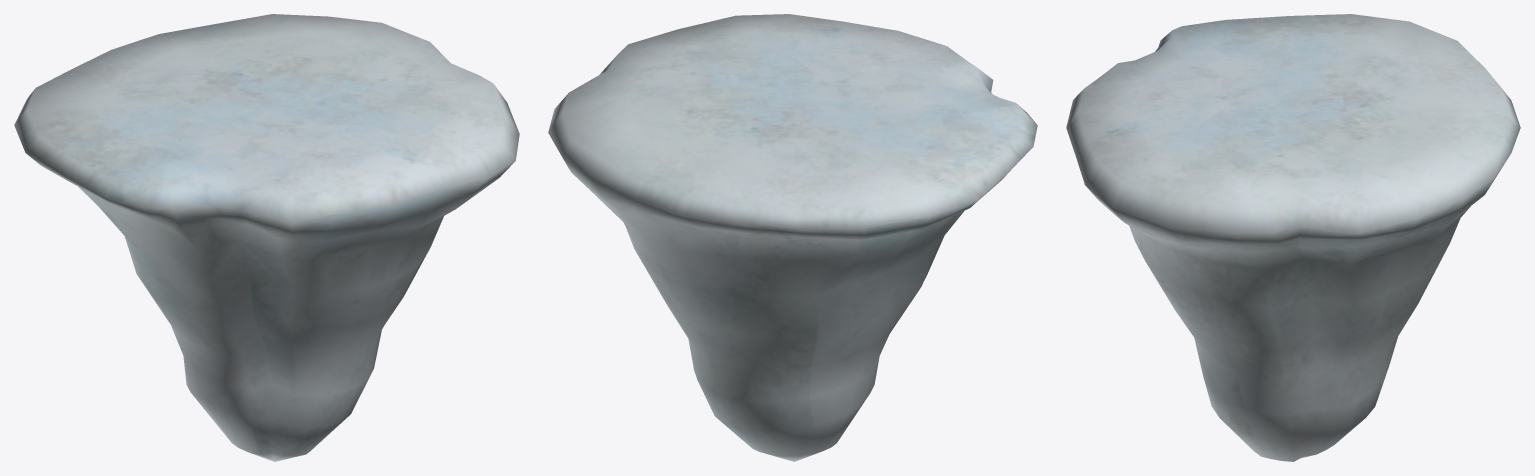
File: P_RockDesert_CliffHalf05.obj
3 renders of one model, left to right at view 1: azimuth 30°, elevation 25°; view 2: azimuth 150°, elevation 25°; view 3: azimuth 270°, elevation 25°, orthographic.
Size of the model in its own units: 58.86 by 47.9 by 55.38.
